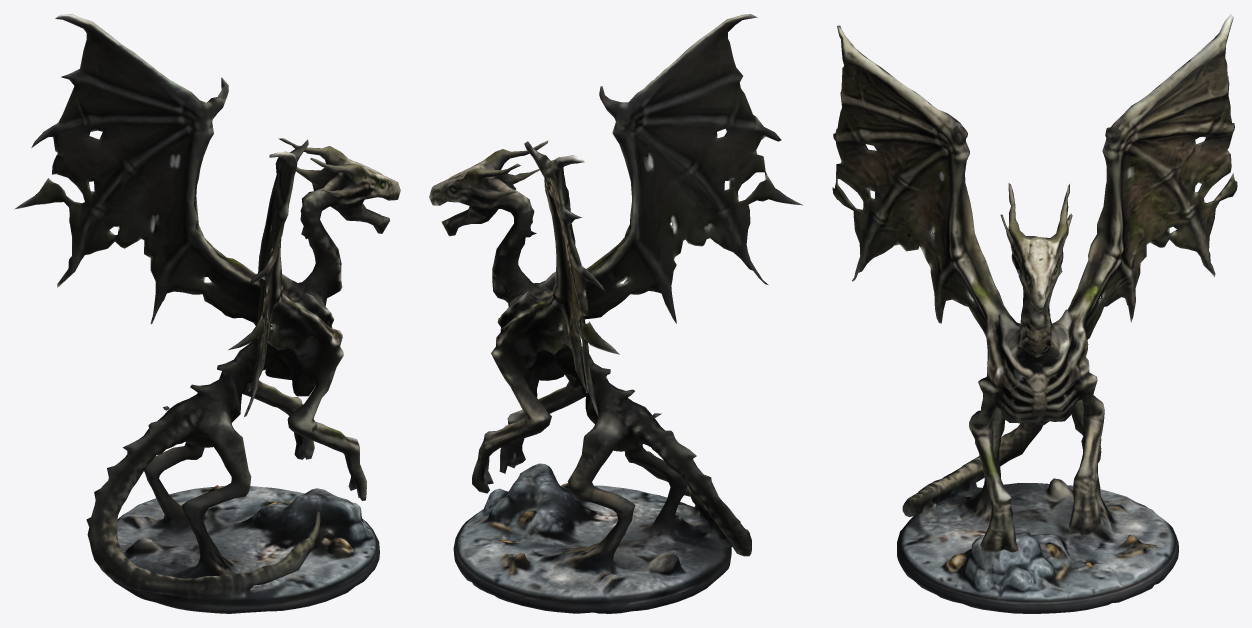
Rendered from dracolich.glb.
3 views of the same model, side by side, from view 1: azimuth 30°, elevation 25°; view 2: azimuth 150°, elevation 25°; view 3: azimuth 270°, elevation 25° (orthographic). The views are drawn at different scales.
Parts seen in each view (by area): view 1: lagrange_node; view 2: lagrange_node; view 3: lagrange_node.
Part boxes in pixels (<box>): lagrange_node: <box>14,14,400,613</box>; lagrange_node: <box>429,14,802,613</box>; lagrange_node: <box>832,14,1237,613</box>.
Size of the model in its own units: 1.35 by 2.02 by 1.48.
1 material, 1 textured.
